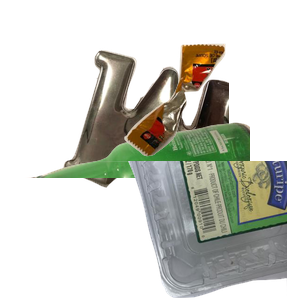glass: (23, 120, 263, 300)
metal: (60, 47, 300, 227)
plastic: (60, 161, 300, 300)
trash: (122, 41, 300, 190)
